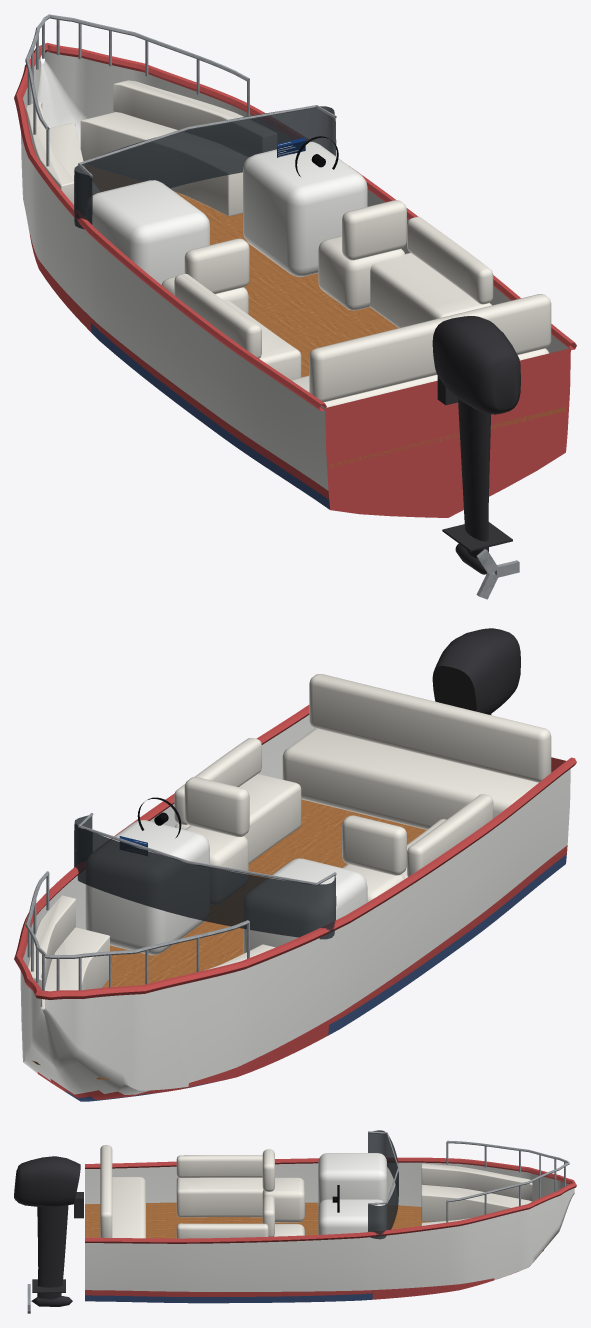
Rendered from boat_speedboat_red.gltf.
3 views of the same model, one above another, from view 1: azimuth 30°, elevation 25°; view 2: azimuth 150°, elevation 25°; view 3: azimuth 270°, elevation 25° (orthographic). The views are drawn at different scales.
Parts seen in each view (by area): view 1: boat_speedboat_red; view 2: boat_speedboat_red; view 3: boat_speedboat_red.
Boxes of the visible parts, <box> form: boat_speedboat_red: <box>14,14,576,599</box>; boat_speedboat_red: <box>14,628,576,1101</box>; boat_speedboat_red: <box>14,1130,576,1313</box>.
Bounding box in the file's own units: 2.47 × 2.26 × 7.36.
10 materials, 4 textured.
